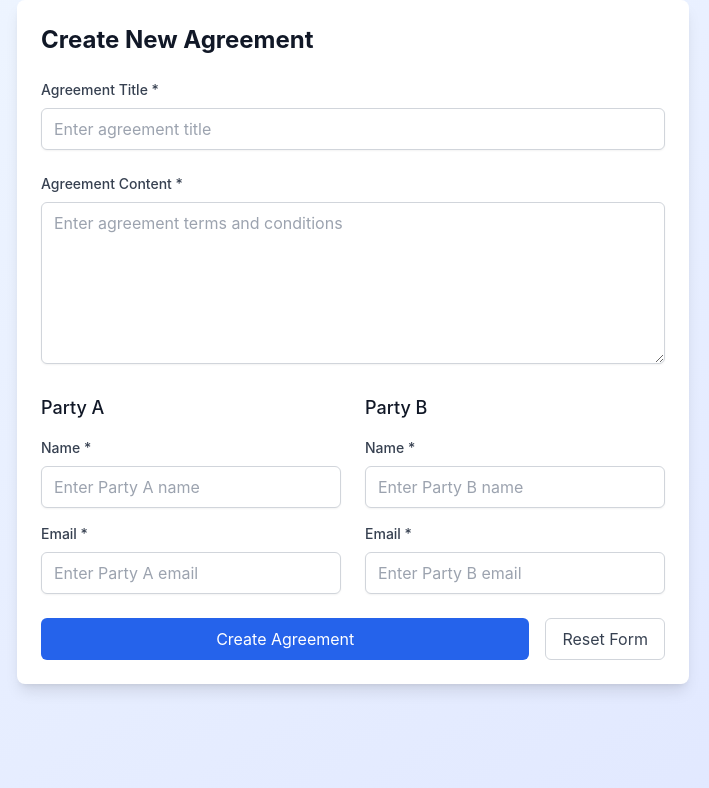
it: CreateAgreementForm › Form Validation › shows validation error for empty Party A name on submission
This screenshot has width=709, height=788.
Type "Test Agreement" into the field labelled "Agreement Title *".
click(353, 129); type("Test Agreement")  # box [41, 108, 665, 150]
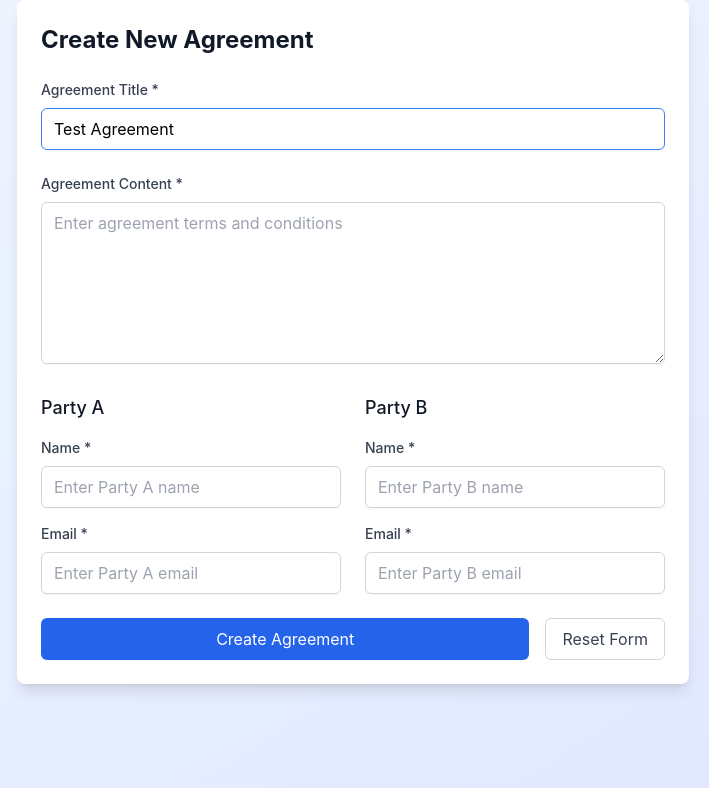
Type "Test content" into the text box labelled "Agreement Content *".
click(353, 283); type("Test content")  # box [41, 202, 665, 364]
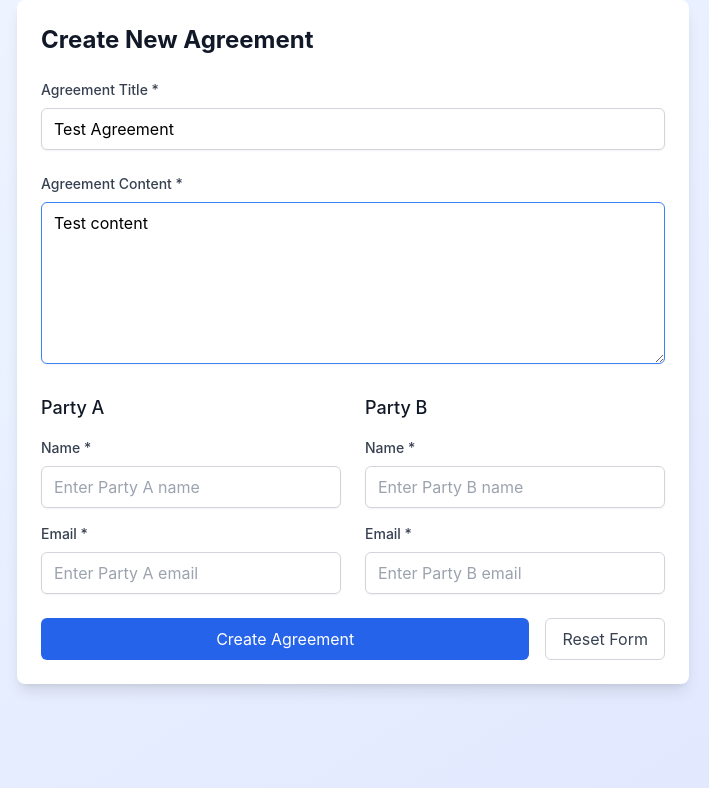
Click the button "Create Agreement".
click(285, 639)  # box [41, 618, 529, 660]
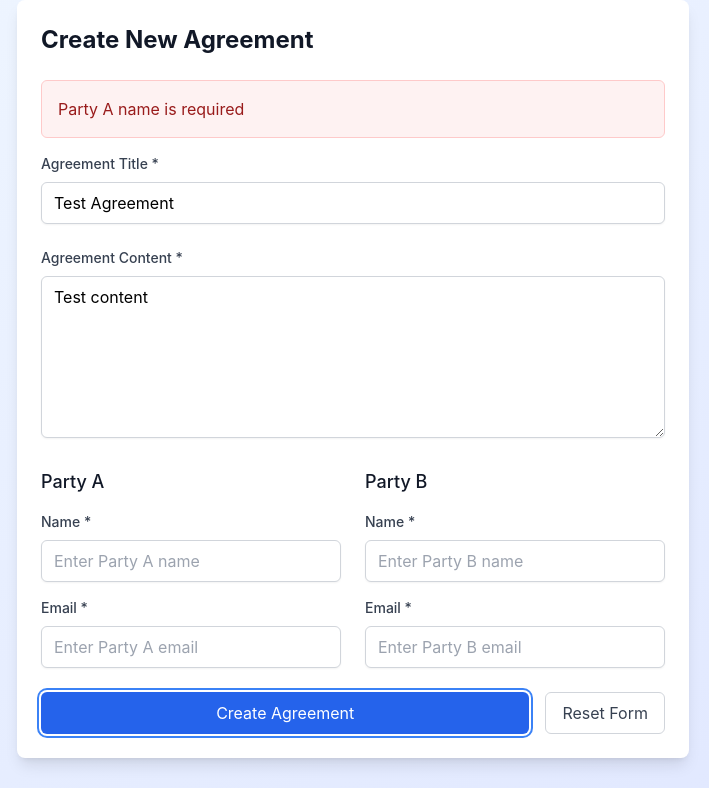
expect the text "Party A name is required" is shown: met, box [58, 99, 244, 119]
